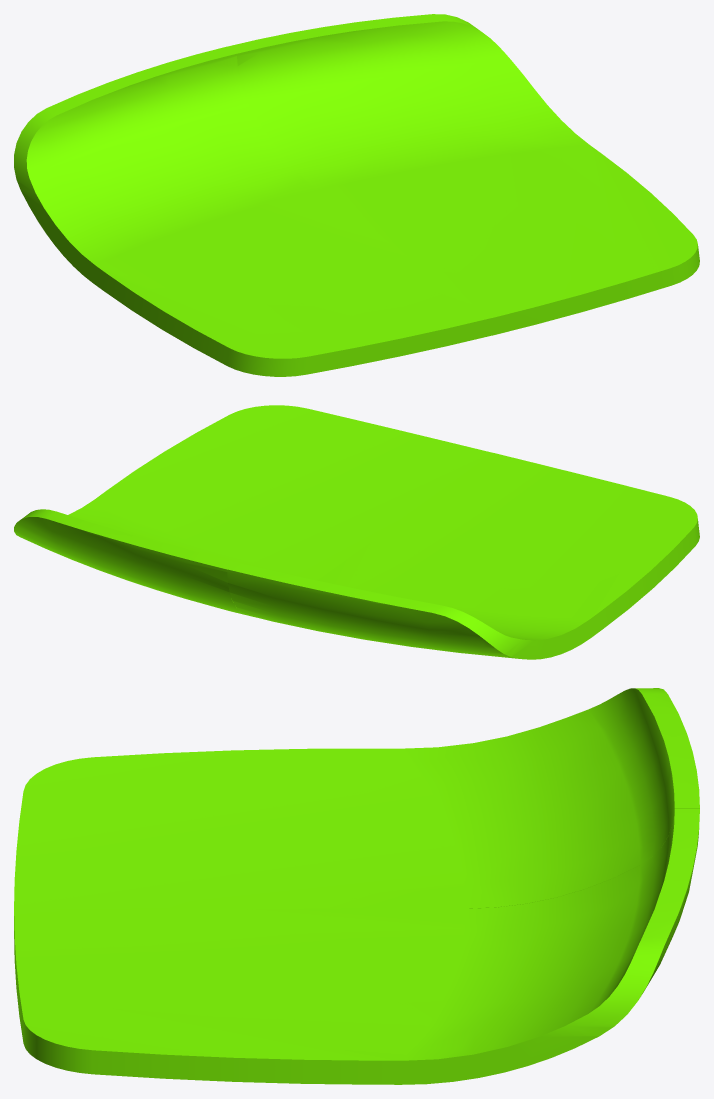
File: chair_026_02.obj
The picture shows the model from 3 angles, top to bottom: view 1: azimuth 30°, elevation 25°; view 2: azimuth 150°, elevation 25°; view 3: azimuth 270°, elevation 25°; orthographic projection. The views are drawn at different scales.
Bounding box in the file's own units: 470 × 85.56 × 433.
